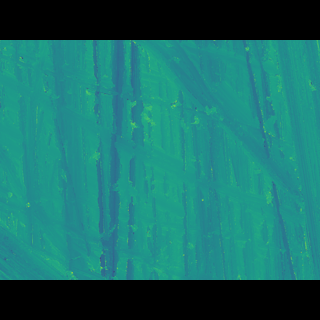Loch: (33, 125, 185, 246)
